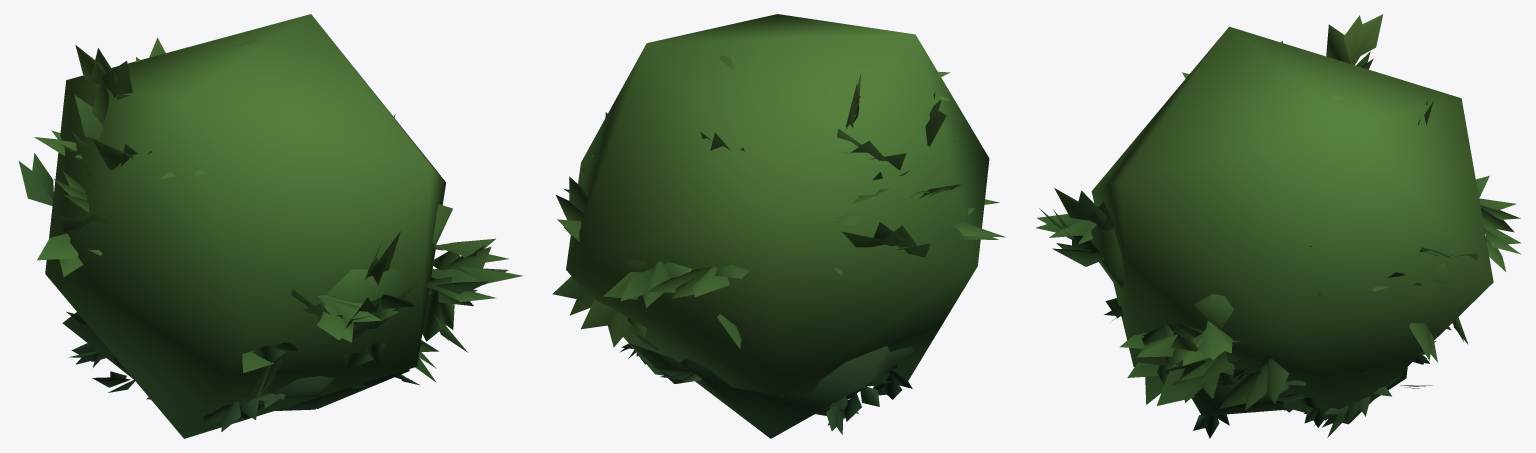
The model's file is shrubs.glb.
3 views of the same model, side by side, from view 1: azimuth 30°, elevation 25°; view 2: azimuth 150°, elevation 25°; view 3: azimuth 270°, elevation 25° (orthographic). The views are drawn at different scales.
Parts seen in each view (by area): view 1: alder_far, alder_near, alder_mid, rose_near, rose_far, rose_mid; view 2: alder_far, alder_near, rose_far, rose_near, rose_mid; view 3: alder_far, alder_near, rose_near, alder_mid, rose_mid.
Boxes of the visible parts, x1,y1,x2,y2 form: alder_far: (45, 14, 446, 438); alder_near: (19, 37, 522, 402); alder_mid: (234, 38, 452, 341); rose_near: (66, 311, 424, 431); rose_far: (62, 312, 334, 410); rose_mid: (114, 356, 409, 418); alder_far: (566, 14, 989, 395); alder_near: (552, 71, 1005, 348); rose_far: (680, 345, 897, 438); rose_near: (620, 332, 912, 434); rose_mid: (629, 343, 914, 399); alder_far: (1091, 26, 1493, 424); alder_near: (1036, 14, 1521, 412); rose_near: (1193, 341, 1435, 438); alder_mid: (1090, 96, 1487, 408); rose_mid: (1191, 367, 1407, 416).
Bounding box in the file's own units: 2.5 × 2.03 × 2.65.
